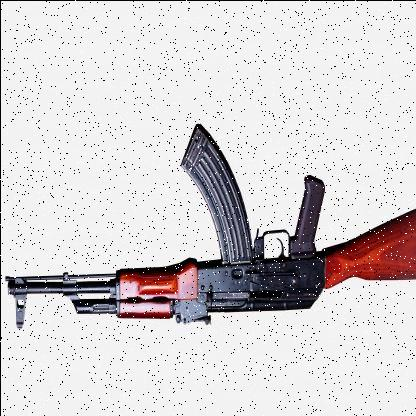rifle: (14, 118, 416, 359)
